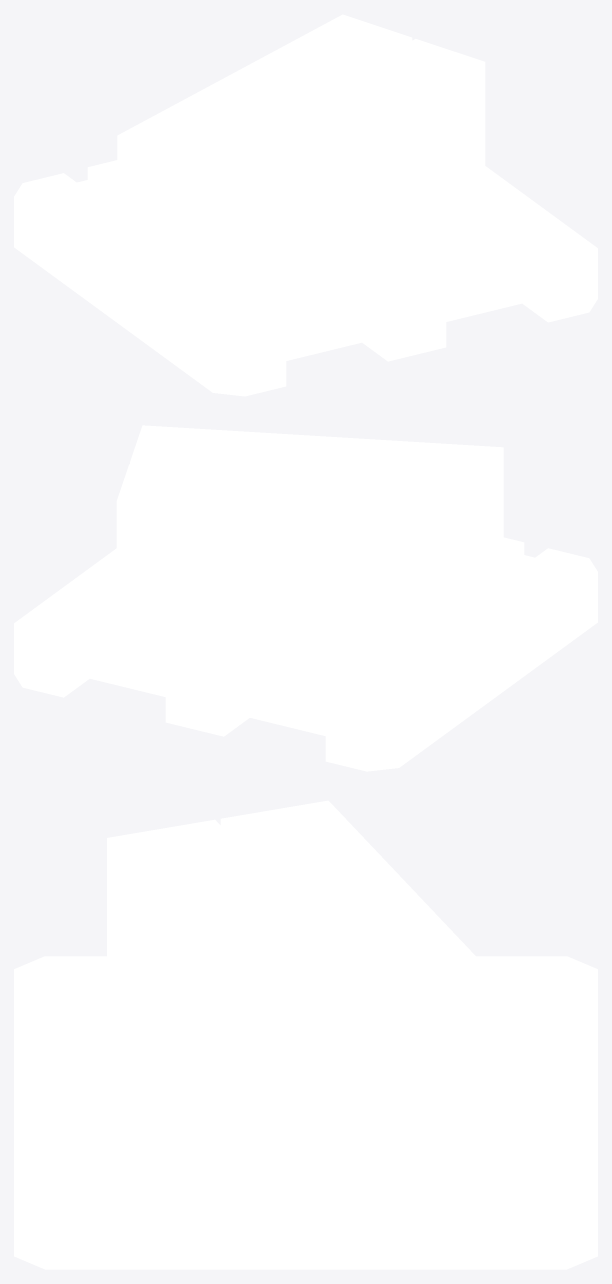
File: Warehouse_Assets_Pallet_Packed_1.glb
3 views of the same model, one above another, from view 1: azimuth 30°, elevation 25°; view 2: azimuth 150°, elevation 25°; view 3: azimuth 270°, elevation 25° (orthographic). The views are drawn at different scales.
Parts seen in each view (by area): view 1: Pallet_Packed_1; view 2: Pallet_Packed_1; view 3: Pallet_Packed_1.
Part boxes in pixels (box(x1,y1,x2,y2)): Pallet_Packed_1: box(14, 14, 597, 396); Pallet_Packed_1: box(14, 425, 597, 771); Pallet_Packed_1: box(14, 800, 597, 1269).
Size of the model in its own units: 1.9 by 0.8241 by 1.9.
